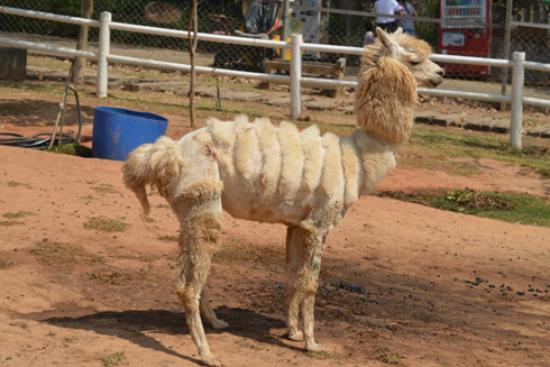alpaca: (121, 23, 446, 367)
